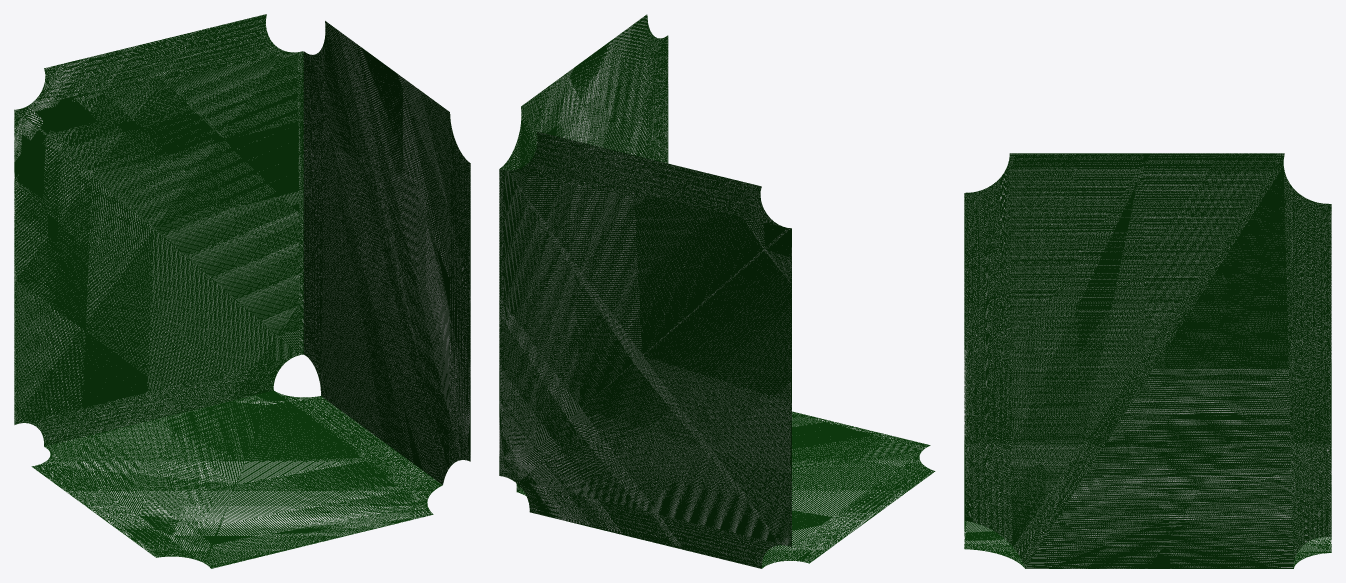
Rendered from original-20.obj.
3 views of the same model, side by side, from view 1: azimuth 30°, elevation 25°; view 2: azimuth 150°, elevation 25°; view 3: azimuth 270°, elevation 25° (orthographic). The views are drawn at different scales.
Parts seen in each view (by area): view 1: mesh33/mesh33-geometry/material_0/component_2#mesh33-geometry; view 2: mesh33/mesh33-geometry/material_0/component_2#mesh33-geometry; view 3: mesh33/mesh33-geometry/material_0/component_2#mesh33-geometry.
Part boxes in pixels (x1=…): mesh33/mesh33-geometry/material_0/component_2#mesh33-geometry: x1=14, y1=14, x2=470, y2=568; mesh33/mesh33-geometry/material_0/component_2#mesh33-geometry: x1=499, y1=14, x2=935, y2=568; mesh33/mesh33-geometry/material_0/component_2#mesh33-geometry: x1=964, y1=153, x2=1331, y2=568.
Size of the model in its own units: 1.07 by 1.33 by 1.07.
